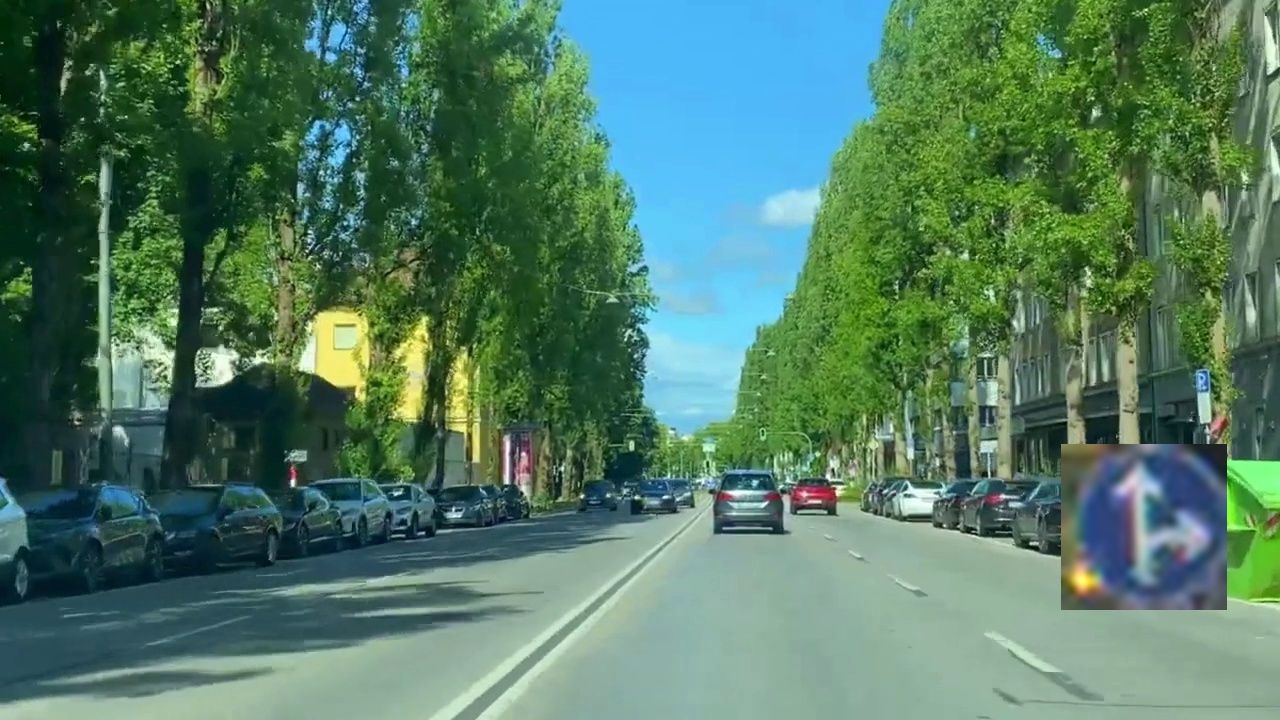Straight/right: (1061, 444, 1227, 610)
